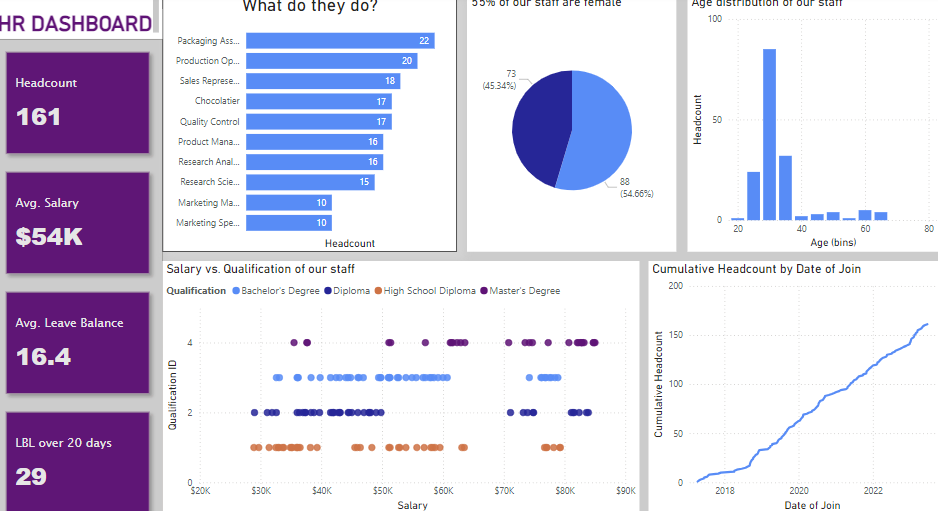

The dashboard page shown, as its layout file describes it:
{"tool":"powerbi","page":{"name":"Page 4","canvas":[1280,720],"ordinal":3},"visuals":[{"type":"cardVisual","fields":{"Data":["staff.Headcount","staff.Avg. Salary","staff.Avg. Leave Balance","staff.LBL over 20 days"]},"box":[0,60.4,228.9,659.6],"z":0},{"type":"clusteredBarChart","title":"What do they do?","fields":{"Category":["staff.Job Title"],"Y":["staff.Headcount"]},"box":[228.9,0,397.4,348.1],"z":1000},{"type":"pieChart","title":"55% of our staff are female","fields":{"Category":["staff.Gender"],"Y":["staff.Headcount"]},"box":[640.5,0,282.9,348.1],"z":2000},{"type":"columnChart","title":"Age distribution of our staff","fields":{"Category":["staff.Age (bins)"],"Y":["staff.Headcount"]},"box":[937.7,0,341.7,348.1],"z":3000},{"type":"scatterChart","title":"Salary vs. Qualification of our staff","fields":{"X":["staff.Salary"],"Y":["qual.Qualification ID"],"Series":["qual.Qualification"]},"box":[228.9,360.8,643.7,341.7],"z":4000},{"type":"lineChart","fields":{"Category":["staff.Date of Join"],"Y":["staff.Cumulative Headcount"]},"box":[885.3,360.8,394.2,341.7],"z":5000},{"type":"textbox","box":[0,0,228.9,60.4],"z":6000}]}

Visuals, with their boxes on the page's 1280x720 design canvas (x1, y1, x2, y2). These are canvas units, not pixel positions in the 938x511 screenshot, which may show the page scaled, cropped or inside an application window:
cardVisual - staff.Headcount x staff.Avg. Salary: [left=0, top=60, right=229, bottom=720]
"What do they do?" clusteredBarChart: [left=229, top=0, right=626, bottom=348]
"55% of our staff are female" pieChart: [left=640, top=0, right=923, bottom=348]
"Age distribution of our staff" columnChart: [left=938, top=0, right=1279, bottom=348]
"Salary vs. Qualification of our staff" scatterChart: [left=229, top=361, right=873, bottom=702]
lineChart - staff.Date of Join x staff.Cumulative Headcount: [left=885, top=361, right=1280, bottom=702]
textbox: [left=0, top=0, right=229, bottom=60]
